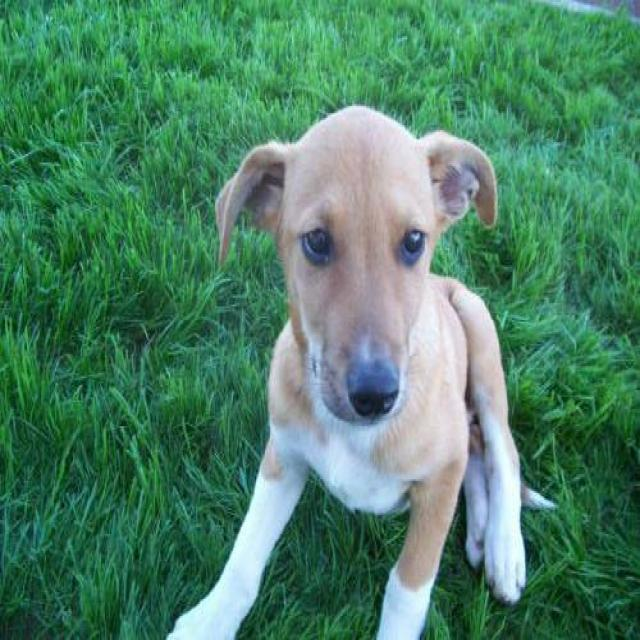dog: (160, 103, 557, 638)
